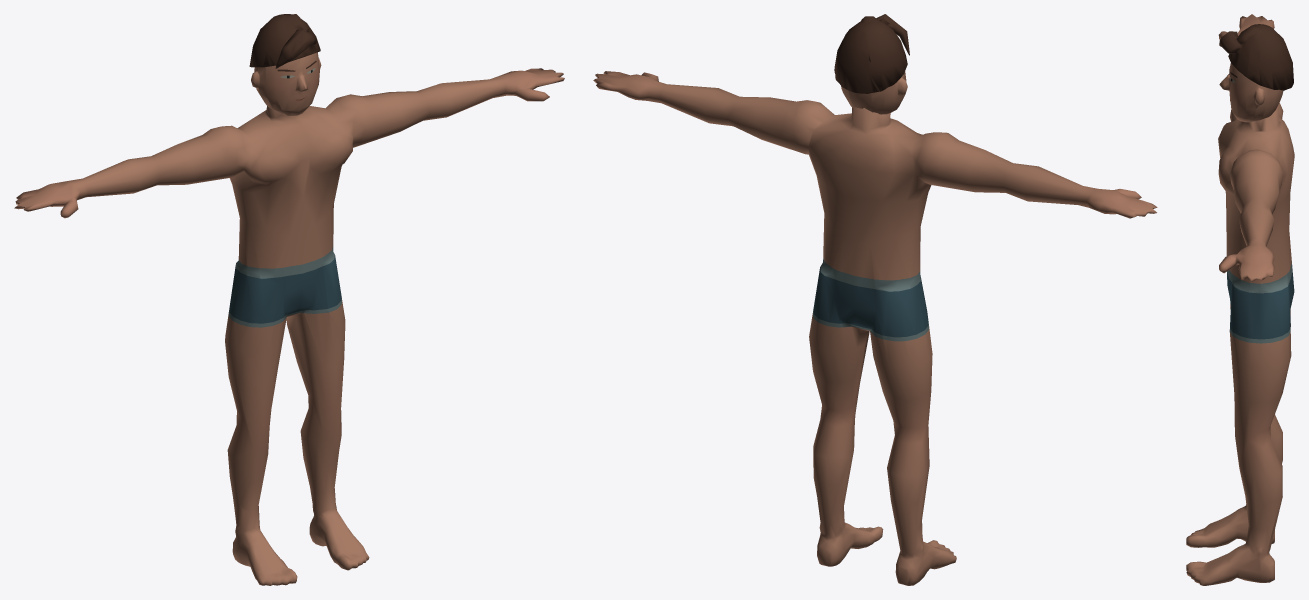
File: male_default_tpose.glb
3 renders of one model, left to right at view 1: azimuth 30°, elevation 25°; view 2: azimuth 150°, elevation 25°; view 3: azimuth 270°, elevation 25°, orthographic. The views are drawn at different scales.
Parts seen in each view (by area): view 1: Body_Male_TPose, Face_01_Soft, Hair_01_SidePart; view 2: Body_Male_TPose, Hair_01_SidePart, Face_01_Soft; view 3: Body_Male_TPose, Hair_01_SidePart, Face_01_Soft.
Part boxes in pixels (<box>): Body_Male_TPose: <box>14,68,564,585</box>; Face_01_Soft: <box>251,52,321,115</box>; Hair_01_SidePart: <box>249,14,320,68</box>; Body_Male_TPose: <box>593,71,1157,585</box>; Hair_01_SidePart: <box>834,14,909,93</box>; Face_01_Soft: <box>841,71,907,114</box>; Body_Male_TPose: <box>1186,14,1294,585</box>; Hair_01_SidePart: <box>1219,24,1293,90</box>; Face_01_Soft: <box>1219,63,1283,122</box>.
Size of the model in its own units: 1.94 by 1.82 by 0.3339.
